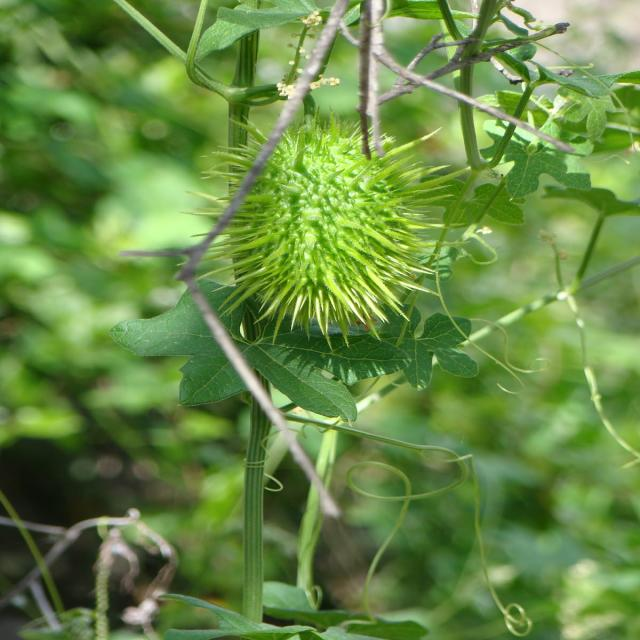apple: (231, 407, 288, 640)
